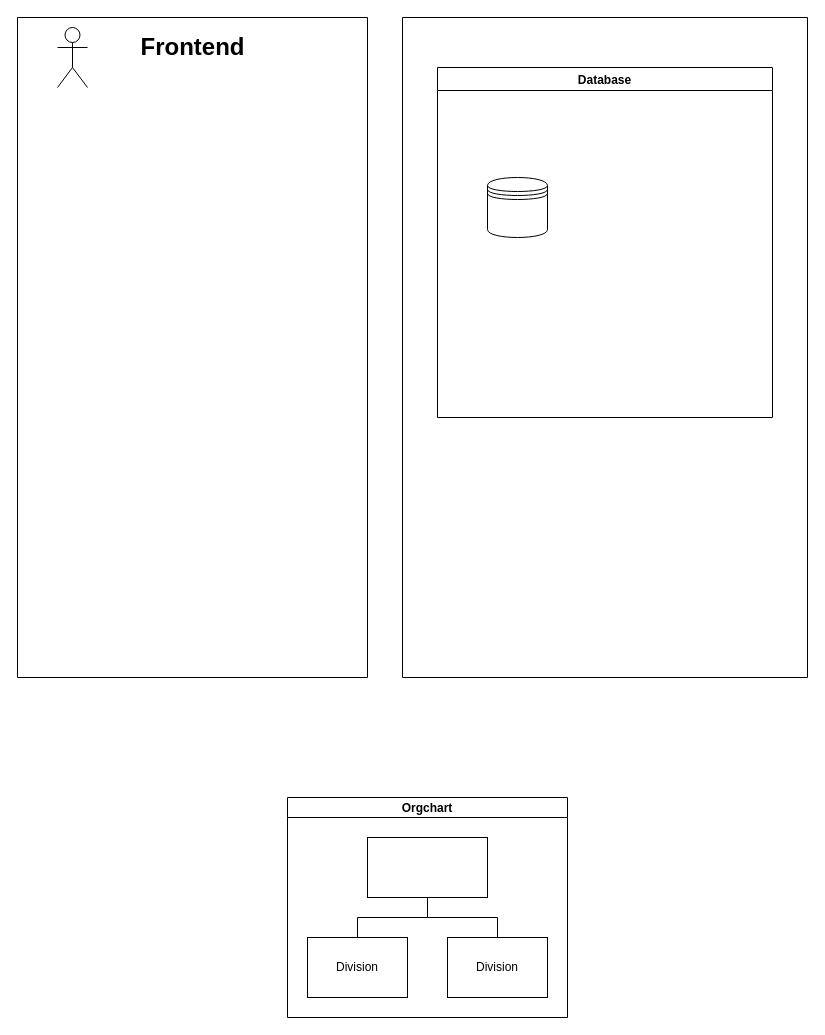
The diagram is 825 pixels wide and 1035 high, and some of its shapes have lost their labels. Each missing label, with the centre of its shape:
"Organization" belongs at pixel 427 867.
"user" belongs at pixel 72 57.
